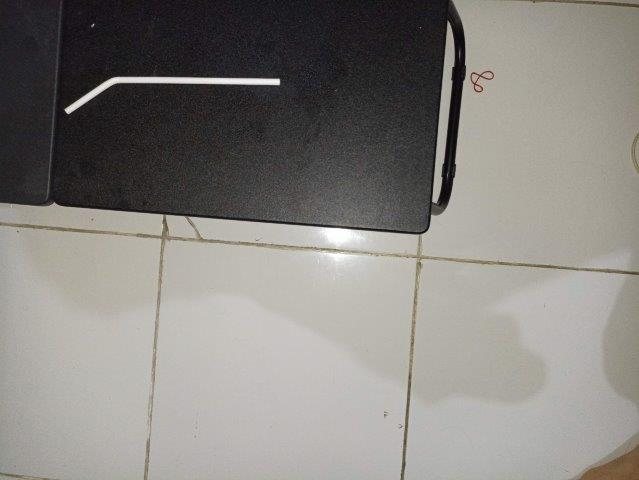karet: (469, 70, 496, 93)
sedotan: (65, 76, 280, 114)
